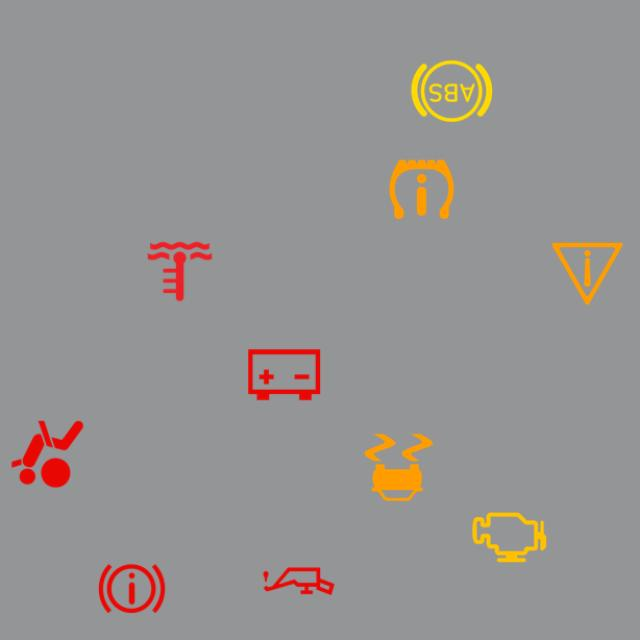Anti Lock Braking System: (408, 47, 496, 135)
Braking System Issue: (88, 544, 176, 633)
Charging System Issue: (240, 330, 328, 419)
Check Engine: (465, 493, 553, 582)
Electronic Stability Problem -ESP-: (354, 423, 443, 512)
Engine Overheating Warning Light: (136, 227, 224, 316)
Low Engine Oil Warning Light: (254, 537, 343, 625)
Low Tire Pressure Warning Light: (377, 145, 466, 233)
Master warning light: (543, 229, 632, 318)
SRS-Airbag: (3, 410, 92, 498)
